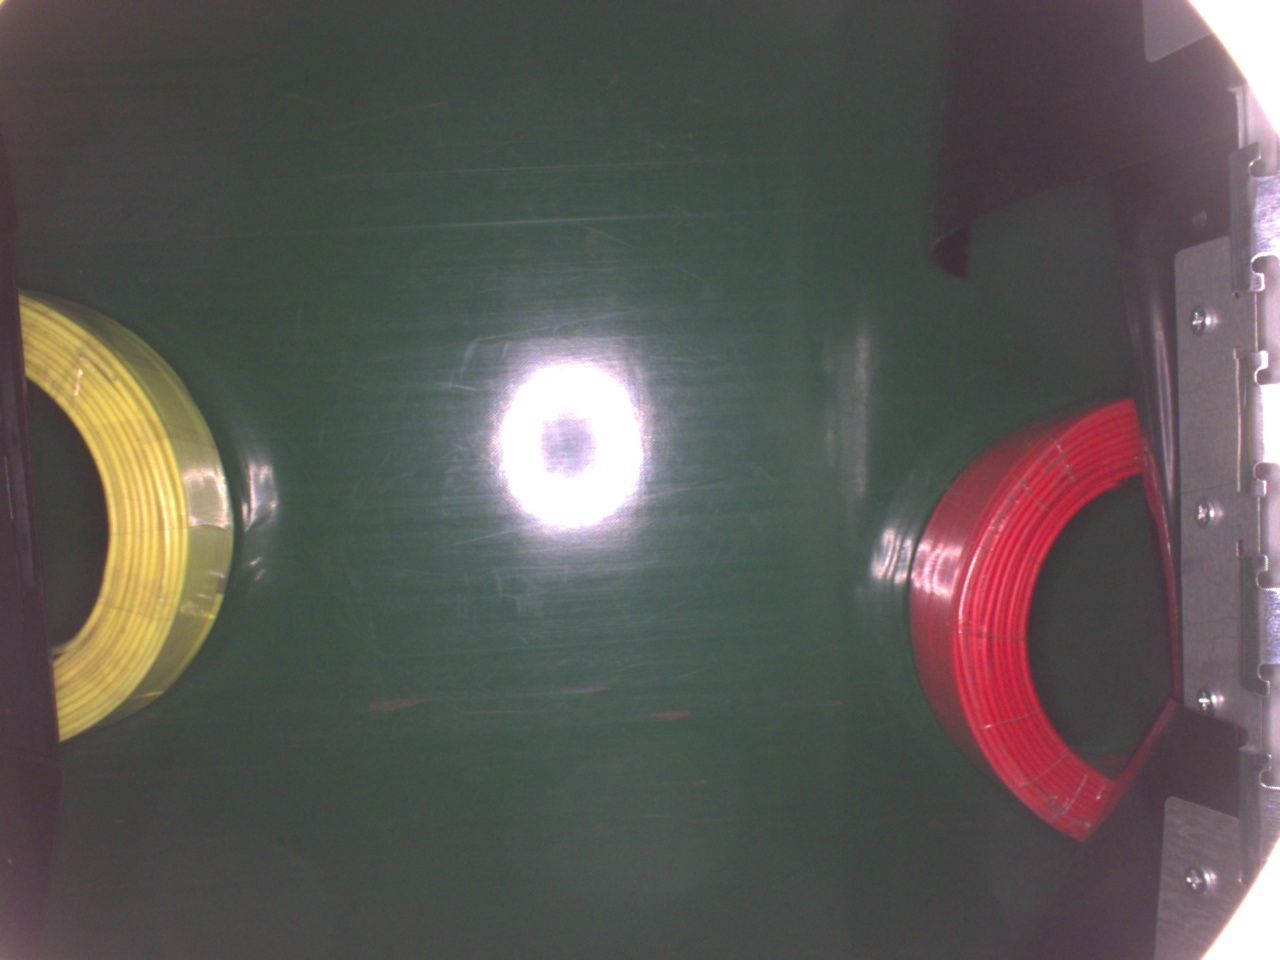red: (906, 393, 1162, 841)
yellow: (18, 288, 235, 745)
